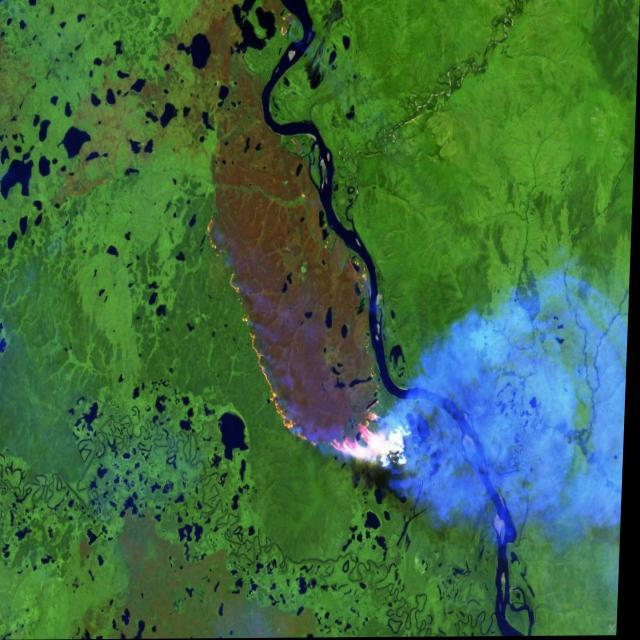fire: (195, 196, 423, 477)
